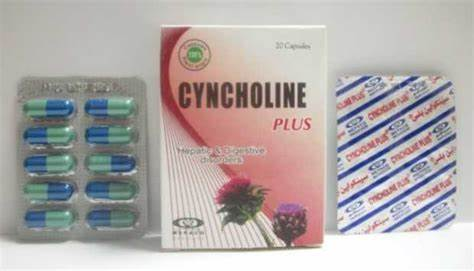Medicine: (155, 20, 334, 251), (332, 70, 461, 239)
